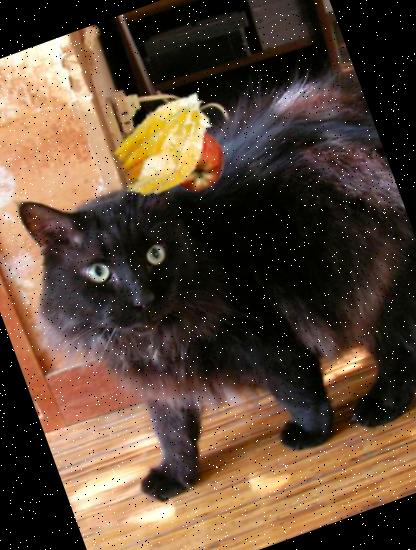Apple: (152, 119, 235, 202)
Physalis: (87, 66, 246, 225)
